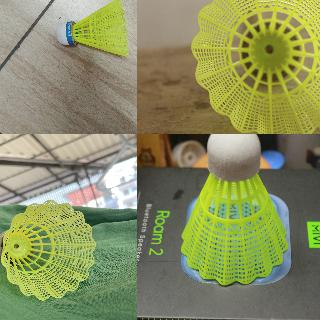shuttlecock: (191, 0, 319, 133), (180, 134, 288, 287), (0, 200, 95, 301), (54, 0, 129, 59)
